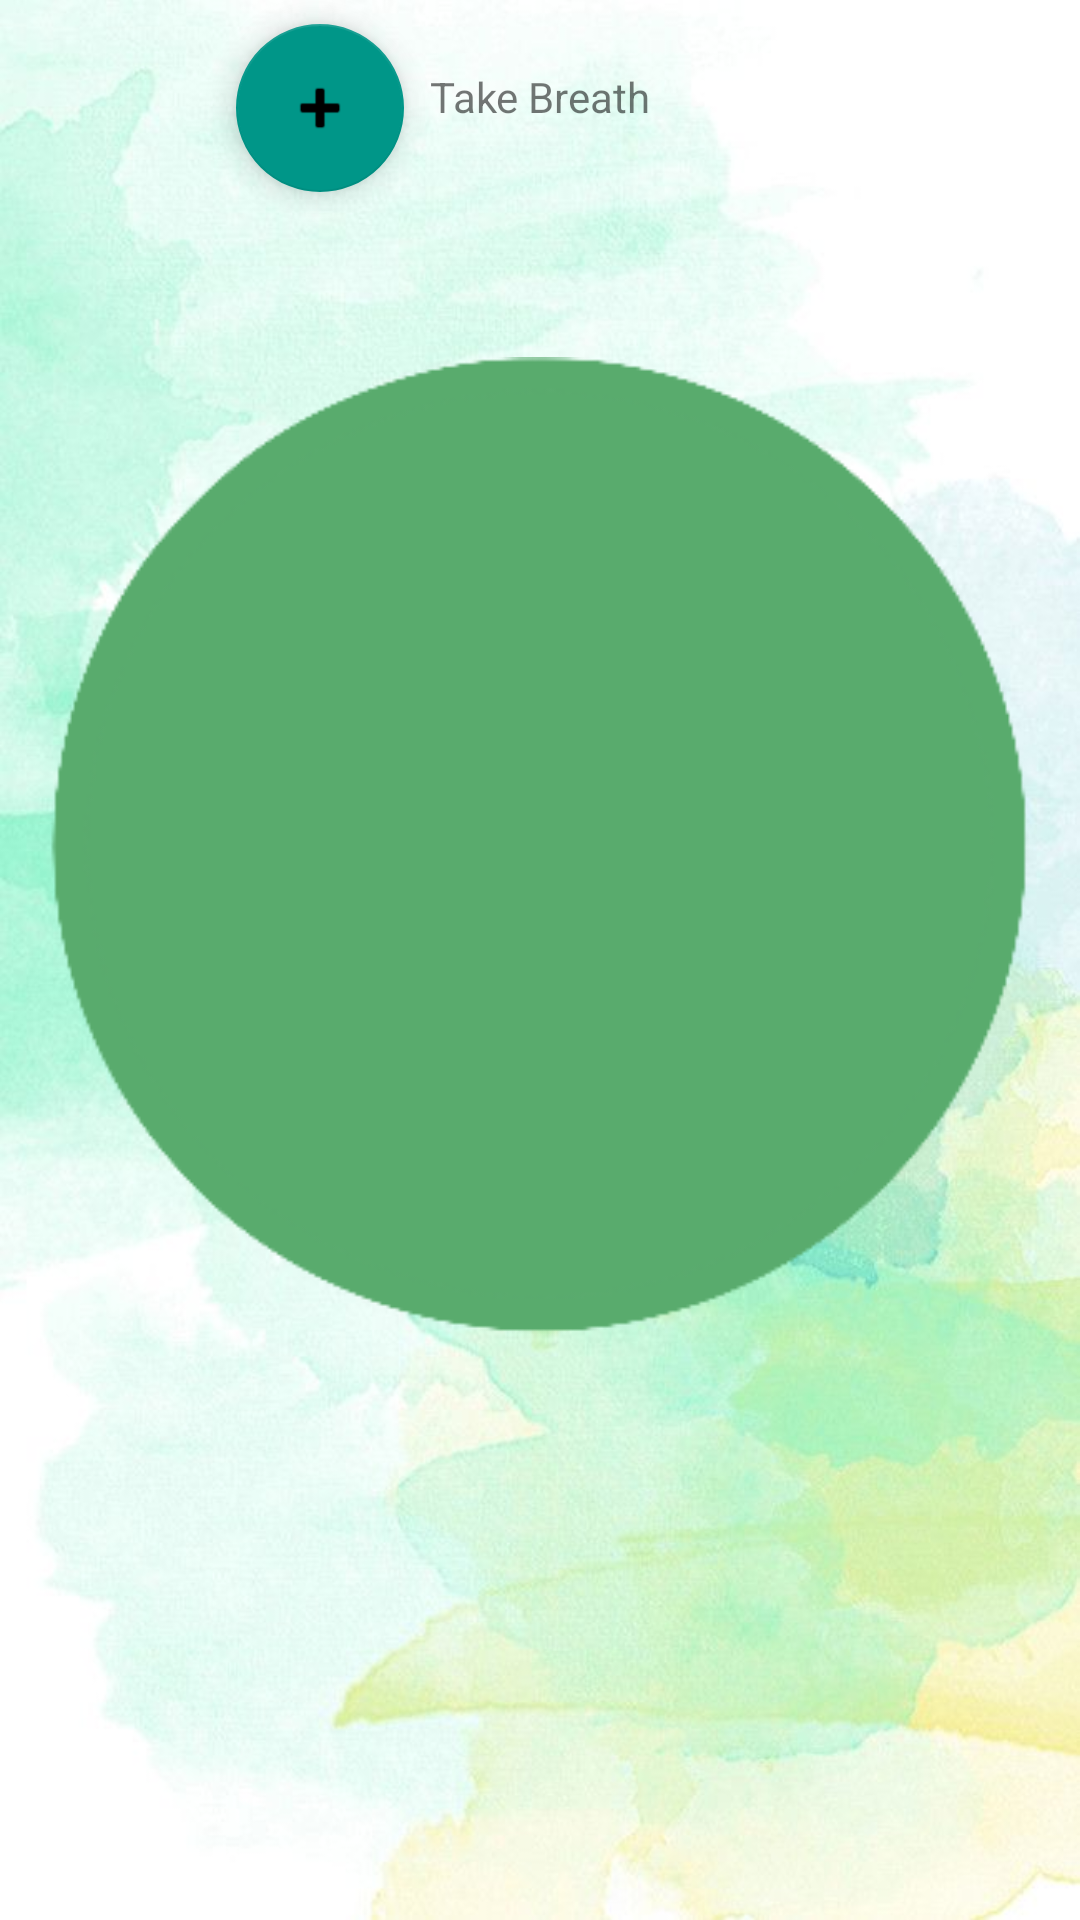

Icon bounding boxes for this 1080 x 1920 phone screenshot, format {"left": x1, "top": y1, "right": x2, "bottom": y2}:
add: {"left": 236, "top": 24, "right": 404, "bottom": 192}
